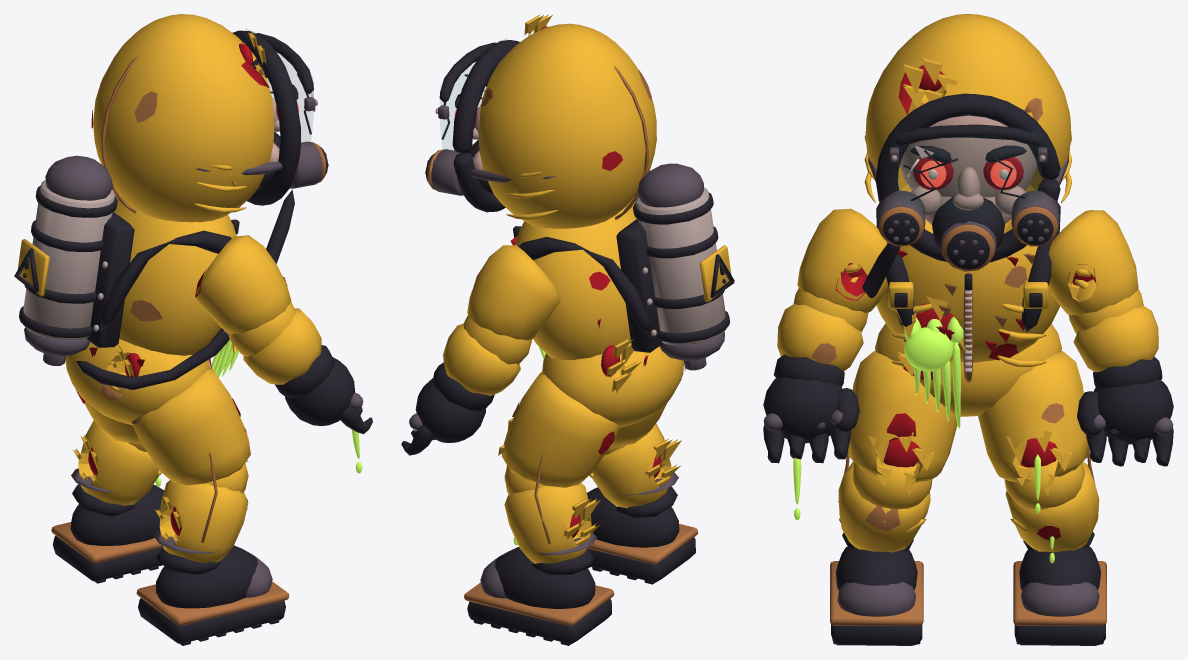
3 renders of one model, left to right at view 1: azimuth 30°, elevation 25°; view 2: azimuth 150°, elevation 25°; view 3: azimuth 270°, elevation 25°, orthographic. The views are drawn at different scales.
Parts seen in each view (by area): view 1: head__pal_schoolBusYellow, torso__pal_uiDark, torso__pal_schoolBusYellow, legR__pal_schoolBusYellow, footR__pal_uiDark, torso__pal_sidewalk, armR__pal_schoolBusYellow, footL__pal_uiDark, shinR__pal_schoolBusYellow, hip__pal_schoolBusYellow, head__pal_uiDark, foreArmR__pal_schoolBusYellow (+12 smaller); view 2: head__pal_schoolBusYellow, torso__pal_schoolBusYellow, torso__pal_uiDark, legL__pal_schoolBusYellow, footL__pal_uiDark, hip__pal_schoolBusYellow, torso__pal_sidewalk, armL__pal_schoolBusYellow, footR__pal_uiDark, shinL__pal_schoolBusYellow, head__pal_uiDark, foreArmL__pal_schoolBusYellow (+11 smaller); view 3: head__pal_schoolBusYellow, head__pal_uiDark, torso__pal_schoolBusYellow, head__pal_backpackTeal, legL__pal_schoolBusYellow, legR__pal_schoolBusYellow, armL__pal_schoolBusYellow, handR__pal_uiDark, handL__pal_uiDark, head__pal_infectedSkin, shinL__pal_schoolBusYellow, armR__pal_schoolBusYellow (+24 smaller).
Part boxes in pixels (<box>): head__pal_schoolBusYellow: <box>93,14,274,222</box>; torso__pal_uiDark: <box>14,185,294,389</box>; torso__pal_schoolBusYellow: <box>17,197,236,355</box>; legR__pal_schoolBusYellow: <box>132,368,250,485</box>; footR__pal_uiDark: <box>138,545,285,645</box>; torso__pal_sidewalk: <box>23,180,114,340</box>; armR__pal_schoolBusYellow: <box>195,235,291,334</box>; footL__pal_uiDark: <box>53,484,164,583</box>; shinR__pal_schoolBusYellow: <box>155,463,248,562</box>; hip__pal_schoolBusYellow: <box>65,339,209,425</box>; head__pal_uiDark: <box>232,30,327,205</box>; foreArmR__pal_schoolBusYellow: <box>228,301,321,384</box>; head__pal_schoolBusYellow: <box>478,14,656,228</box>; torso__pal_schoolBusYellow: <box>515,203,731,359</box>; torso__pal_uiDark: <box>513,192,734,352</box>; legL__pal_schoolBusYellow: <box>498,372,619,487</box>; footL__pal_uiDark: <box>467,547,611,645</box>; hip__pal_schoolBusYellow: <box>542,338,683,427</box>; torso__pal_sidewalk: <box>635,187,726,345</box>; armL__pal_schoolBusYellow: <box>467,245,560,340</box>; footR__pal_uiDark: <box>587,486,695,584</box>; shinL__pal_schoolBusYellow: <box>504,466,600,563</box>; head__pal_uiDark: <box>426,40,519,212</box>; foreArmL__pal_schoolBusYellow: <box>443,315,532,395</box>; head__pal_schoolBusYellow: <box>864,14,1071,233</box>; head__pal_uiDark: <box>875,93,1060,269</box>; torso__pal_schoolBusYellow: <box>876,245,1059,387</box>; head__pal_backpackTeal: <box>895,131,1041,216</box>; legL__pal_schoolBusYellow: <box>978,351,1088,495</box>; legR__pal_schoolBusYellow: <box>848,351,957,495</box>; armL__pal_schoolBusYellow: <box>1048,210,1138,315</box>; handR__pal_uiDark: <box>763,377,859,463</box>; handL__pal_uiDark: <box>1077,379,1173,466</box>; head__pal_infectedSkin: <box>900,115,1036,224</box>; shinL__pal_schoolBusYellow: <box>1004,459,1099,552</box>; armR__pal_schoolBusYellow: <box>797,208,887,313</box>.
Size of what is drawn, in the model's own units: 0.8431 by 1.68 by 1.03.
